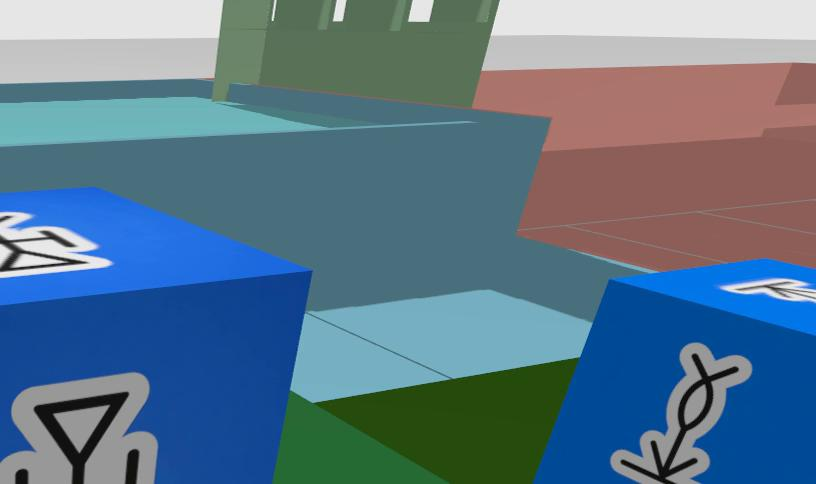KFS_REAL: (0, 188, 310, 483), (532, 258, 815, 483), (610, 343, 751, 483), (0, 373, 156, 483), (0, 212, 111, 277), (719, 279, 815, 301)
